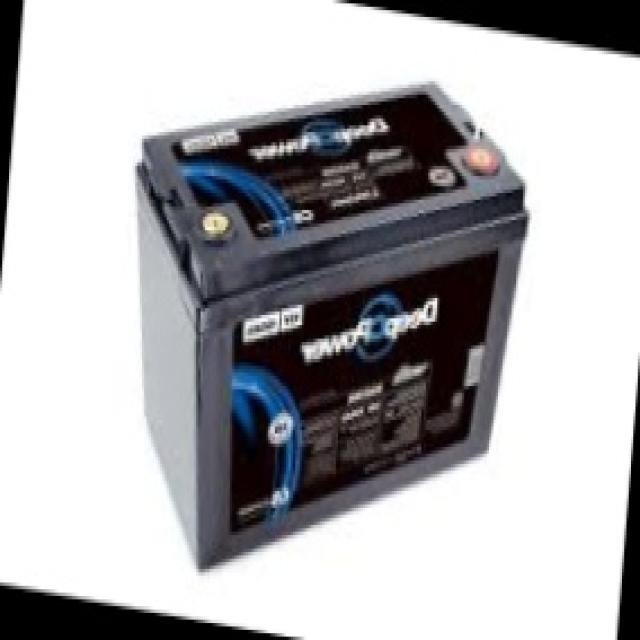elektronik: (133, 85, 534, 570)
